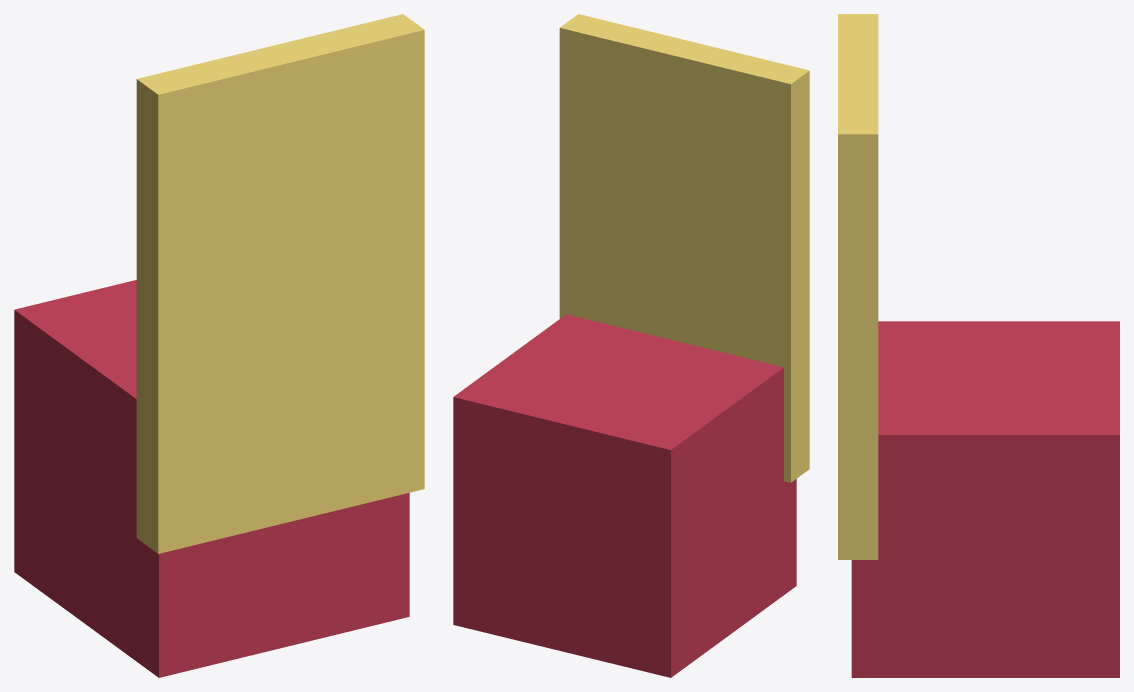
File: royal_throne.glb
The picture shows the model from 3 angles, left to right: view 1: azimuth 30°, elevation 25°; view 2: azimuth 150°, elevation 25°; view 3: azimuth 270°, elevation 25°; orthographic projection. The views are drawn at different scales.
Visible parts, largest first — view 1: Cube.001, Cube; view 2: Cube, Cube.001; view 3: Cube, Cube.001.
Boxes of the visible parts, left/top/right/bottom form: Cube.001: left=136, top=14, right=424, bottom=553; Cube: left=14, top=280, right=409, bottom=677; Cube: left=453, top=314, right=796, bottom=677; Cube.001: left=559, top=14, right=809, bottom=482; Cube: left=851, top=321, right=1119, bottom=677; Cube.001: left=838, top=14, right=878, bottom=559.
Size of the model in its own units: 0.85 by 1.8 by 0.84.
